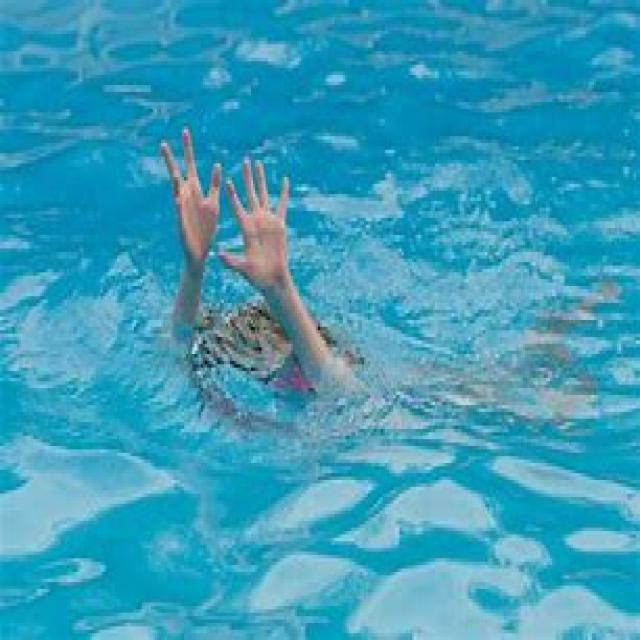drowning: (142, 82, 455, 516)
